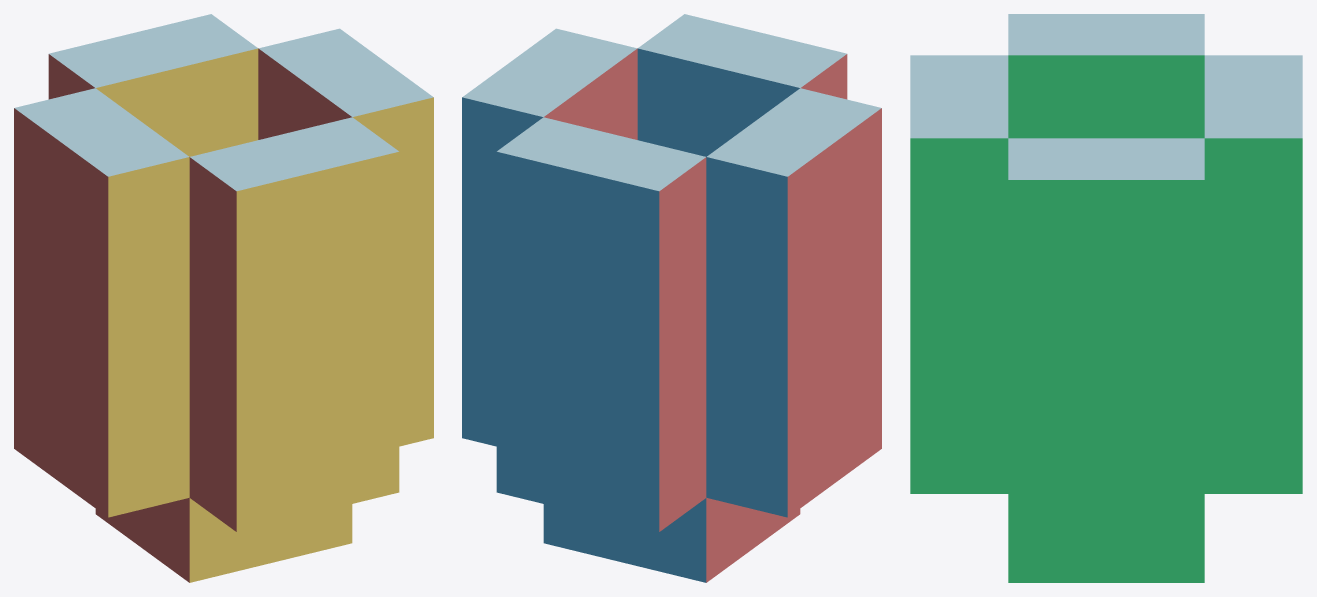
File: Glass.gltf
3 renders of one model, left to right at view 1: azimuth 30°, elevation 25°; view 2: azimuth 150°, elevation 25°; view 3: azimuth 270°, elevation 25°, orthographic. The views are drawn at different scales.
Parts seen in each view (by area): view 1: cube (×5); view 2: cube (×5); view 3: cube (×5).
Boxes of the visible parts, box(x1,y1,x2,y2) form: cube (×5): box(14, 14, 433, 582); cube (×5): box(462, 14, 881, 582); cube (×5): box(910, 14, 1302, 582).
Size of the model in its own units: 0.25 by 0.3125 by 0.25.
1 material, 1 textured.
